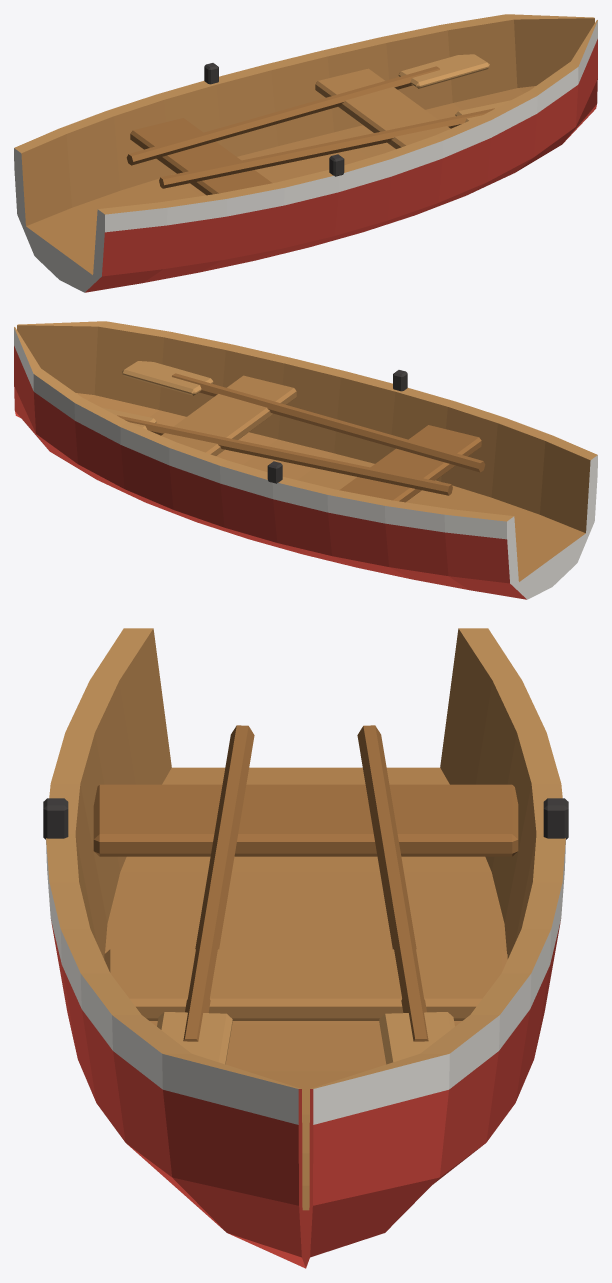
The model's file is rowboat.glb.
3 renders of one model, top to bottom at view 1: azimuth 30°, elevation 25°; view 2: azimuth 150°, elevation 25°; view 3: azimuth 270°, elevation 25°, orthographic. The views are drawn at different scales.
Visible parts, largest first — view 1: rowboat; view 2: rowboat; view 3: rowboat.
Part boxes in pixels (x1=…): rowboat: x1=14, y1=14, x2=597, y2=292; rowboat: x1=14, y1=321, x2=597, y2=599; rowboat: x1=43, y1=628, x2=568, y2=1268.
Bounding box in the file's own units: 2.5 × 0.58 × 1.06.
